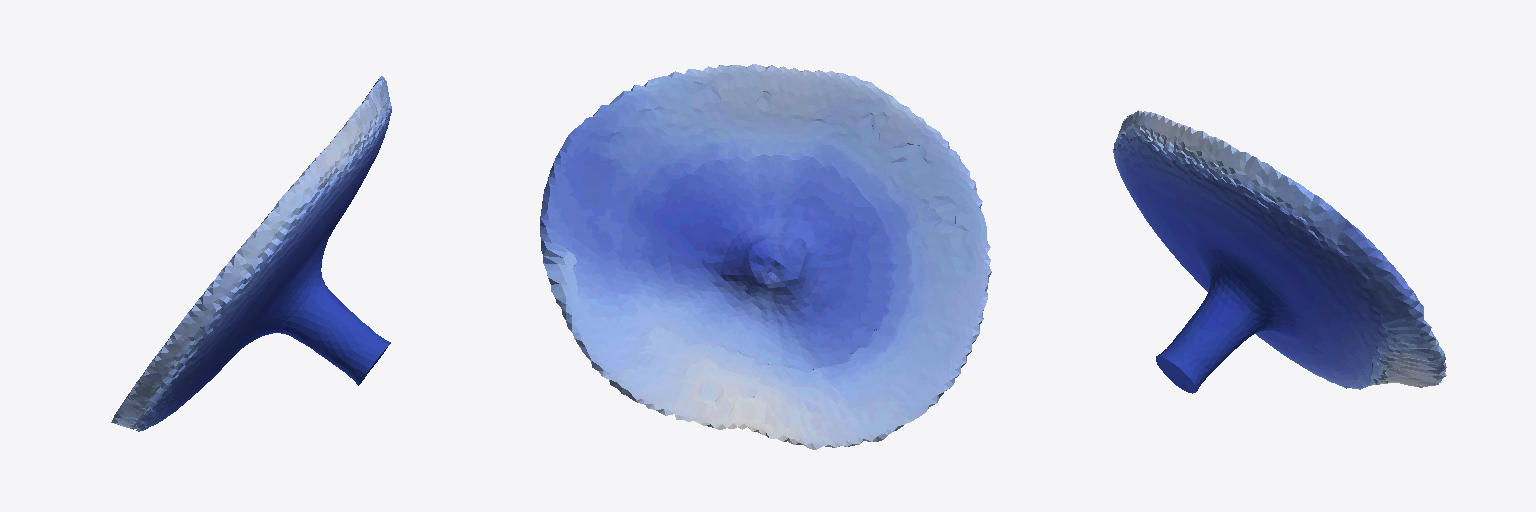
Rendered from colored_model_disk.obj.
3 views of the same model, side by side, from view 1: azimuth 30°, elevation 25°; view 2: azimuth 150°, elevation 25°; view 3: azimuth 270°, elevation 25° (orthographic).
Size of the model in its own units: 18.61 by 15.99 by 15.9.